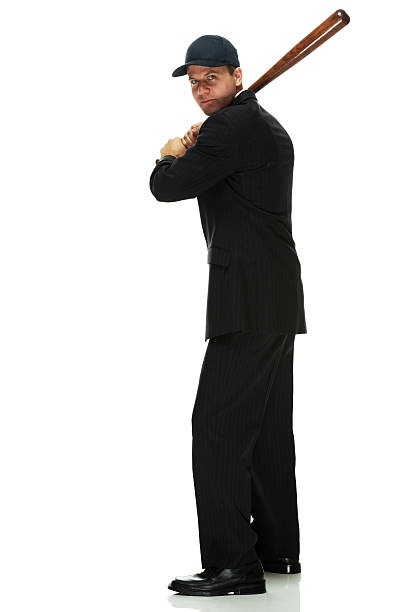bita: (240, 9, 349, 101)
